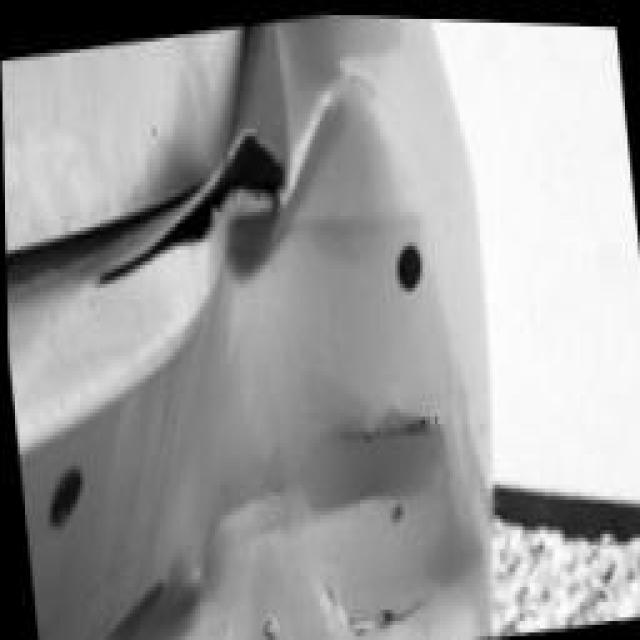Bumper: (45, 11, 540, 638)
